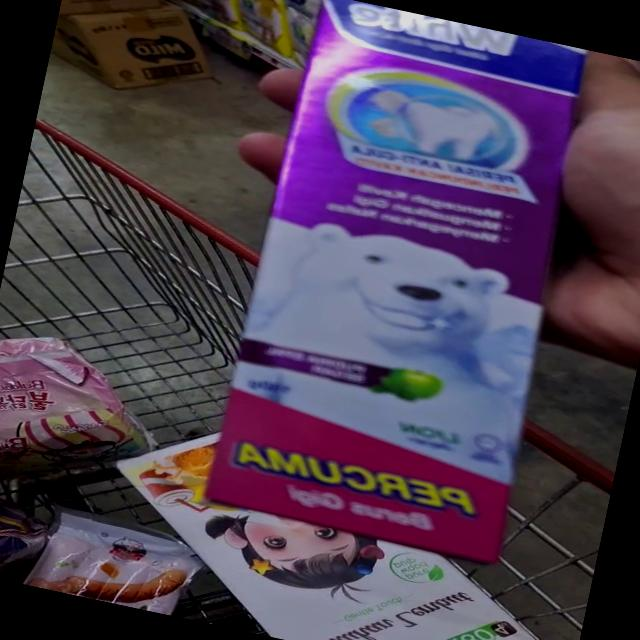Tisu: (222, 525, 582, 640), (96, 424, 255, 552)
Ubat Gigi: (177, 204, 575, 578), (255, 0, 620, 278)
